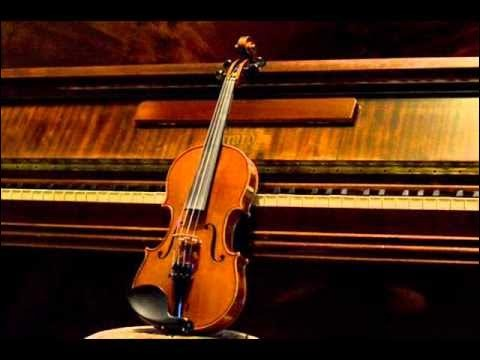Piano: (4, 121, 480, 273)
Violin: (125, 22, 278, 349)
